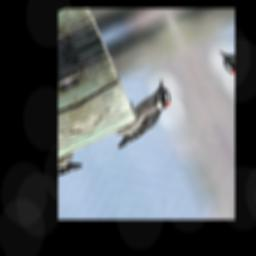Woodpecker: (101, 78, 181, 150)
